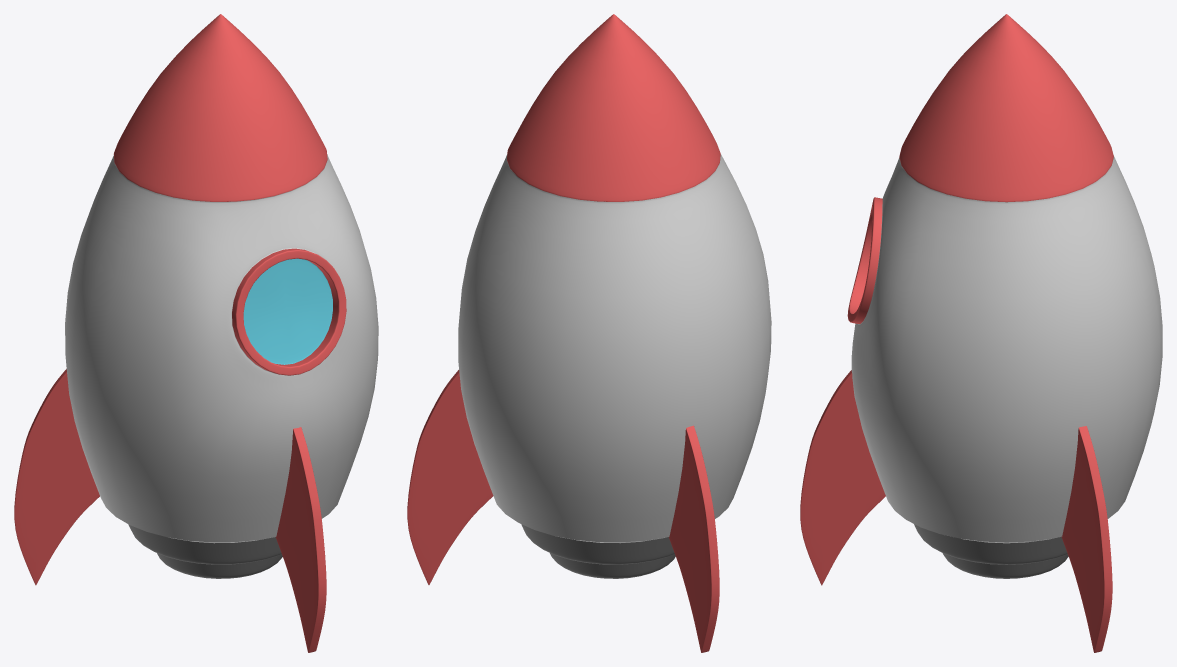
The picture shows the model from 3 angles, left to right: view 1: azimuth 30°, elevation 25°; view 2: azimuth 150°, elevation 25°; view 3: azimuth 270°, elevation 25°; orthographic projection.
Visible parts, largest first — view 1: polySurface3, polySurface2, wing2, polySurface6, wing3, polySurface5, step2, step3; view 2: polySurface3, polySurface2, wing1, wing2, step2, step3; view 3: polySurface3, polySurface2, wing3, wing1, step2, polySurface5, step3.
Part boxes in pixels (box(x1,y1,x2,y2)): polySurface3: box(65, 155, 378, 542); polySurface2: box(113, 14, 327, 201); wing2: box(14, 369, 99, 585); polySurface6: box(243, 258, 332, 364); wing3: box(275, 427, 326, 652); polySurface5: box(232, 248, 346, 375); step2: box(128, 524, 281, 564); step3: box(157, 553, 282, 578); polySurface3: box(458, 154, 771, 542); polySurface2: box(507, 14, 720, 201); wing1: box(407, 370, 493, 584); wing2: box(669, 425, 719, 652); step2: box(521, 524, 674, 564); step3: box(550, 553, 675, 578); polySurface3: box(851, 155, 1162, 542); polySurface2: box(899, 14, 1113, 202); wing3: box(800, 370, 885, 585); wing1: box(1061, 426, 1112, 652); step2: box(914, 524, 1067, 564); polySurface5: box(847, 197, 882, 323); step3: box(942, 553, 1068, 578).
Size of the model in its own units: 3.93 by 6.85 by 3.94.
